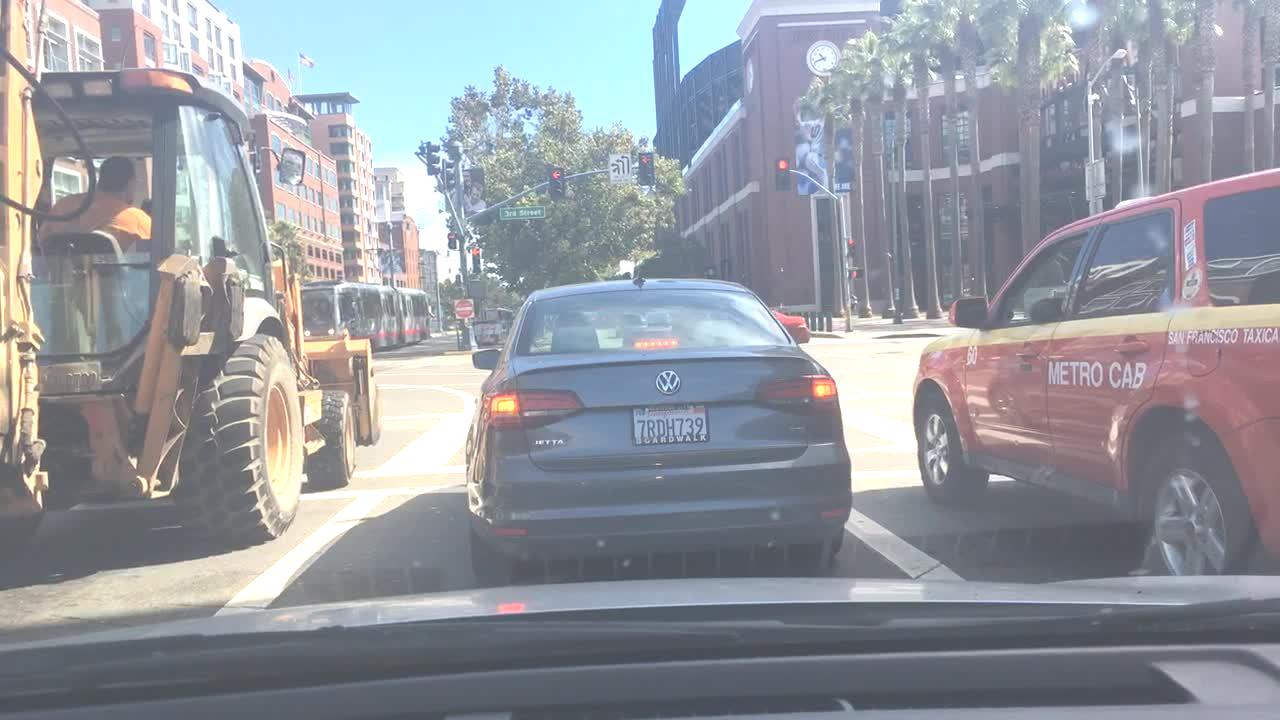Volkswagen: (649, 358, 690, 400)
